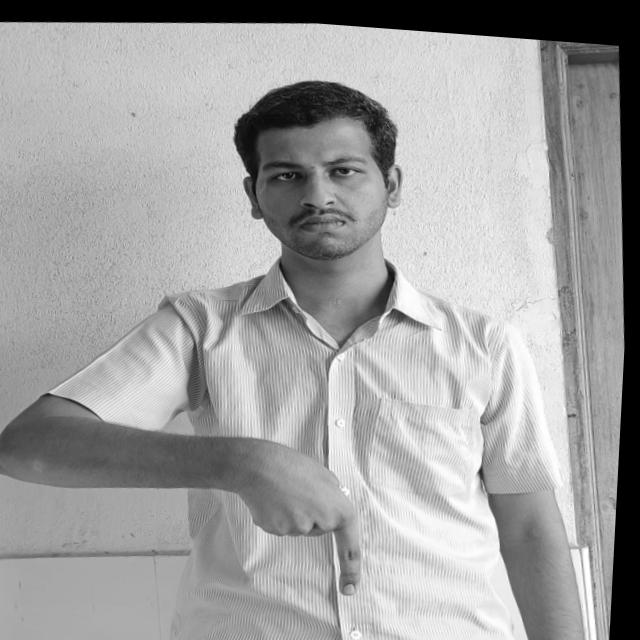Now: (239, 426, 377, 600)
